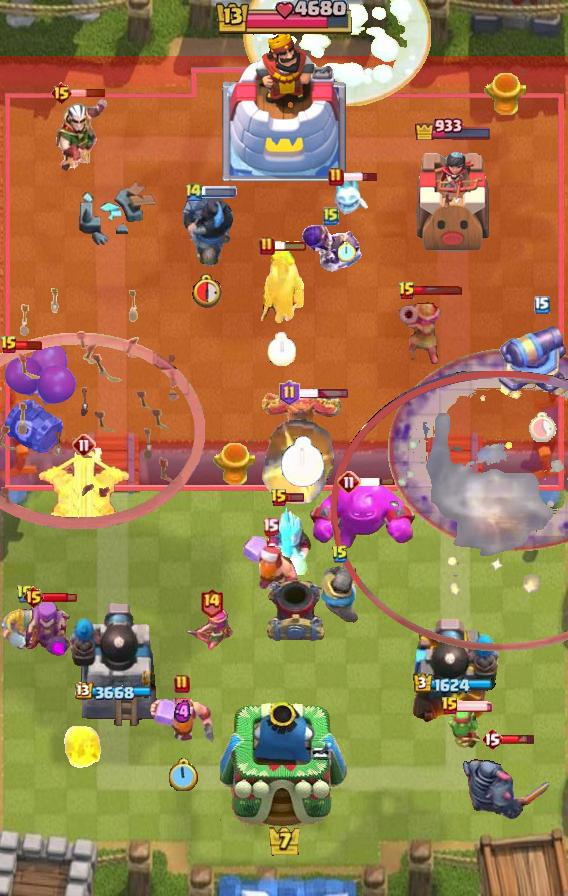bat: (325, 174, 369, 220)
bomb-tower: (399, 296, 441, 366)
cannon: (186, 607, 236, 653)
clock: (213, 0, 355, 38)
clone: (308, 478, 418, 552)
dirt: (261, 417, 339, 509)
electro-spirit: (174, 700, 191, 724)
elixir: (280, 436, 324, 488), (191, 272, 225, 308), (167, 758, 198, 794), (268, 332, 296, 366), (527, 410, 557, 441), (338, 241, 356, 263)
emote: (297, 388, 349, 399), (413, 285, 463, 296), (456, 700, 494, 712), (342, 171, 379, 183), (201, 186, 237, 198), (272, 240, 308, 252), (43, 591, 78, 603), (501, 733, 536, 745), (9, 341, 43, 352), (359, 477, 395, 487), (71, 88, 106, 98), (287, 493, 306, 504)
firecracker: (321, 566, 360, 624)
giant-snowball: (445, 706, 481, 748)
goblin-ball: (300, 221, 362, 273)
goblin-giant: (1, 607, 49, 650)
goblin-hut: (260, 242, 304, 325)
golden-knight: (261, 392, 343, 442)
golemite: (459, 741, 549, 821)
inferno-dragon: (180, 189, 236, 269)
king-tower: (222, 31, 346, 181), (220, 702, 348, 827)
lava-pup: (35, 447, 133, 529)
mighty-miner: (240, 530, 300, 604), (148, 696, 216, 750)
mortar: (264, 501, 314, 575)
musketeer: (265, 577, 327, 645)
phoenix-big: (243, 0, 431, 106)
queen-tower: (410, 144, 496, 255)
rascal-girl: (24, 598, 74, 658)
rocket: (388, 348, 568, 552)
royal-ghost: (332, 371, 568, 651)
royal-recruit: (496, 316, 568, 400)
royal-recruit-evolution: (0, 341, 78, 457)
selected: (414, 115, 494, 140), (413, 673, 493, 695), (74, 682, 154, 702)
skeleton-barrel: (0, 286, 204, 530)
skeleton-king: (42, 98, 110, 174)
text: (199, 587, 224, 617), (72, 433, 96, 457), (337, 470, 361, 494), (51, 81, 74, 105), (22, 585, 45, 609), (279, 380, 300, 406), (481, 727, 503, 751), (184, 182, 204, 203), (398, 281, 416, 301), (0, 335, 18, 355), (270, 488, 288, 508), (331, 544, 349, 564), (16, 584, 34, 604), (441, 696, 459, 716), (261, 517, 279, 536), (328, 167, 344, 187), (323, 206, 339, 226), (259, 236, 275, 256), (174, 674, 190, 694), (534, 296, 550, 314)
tower-bar: (69, 599, 159, 731), (406, 611, 500, 731)
valkyrie: (59, 721, 105, 777)
